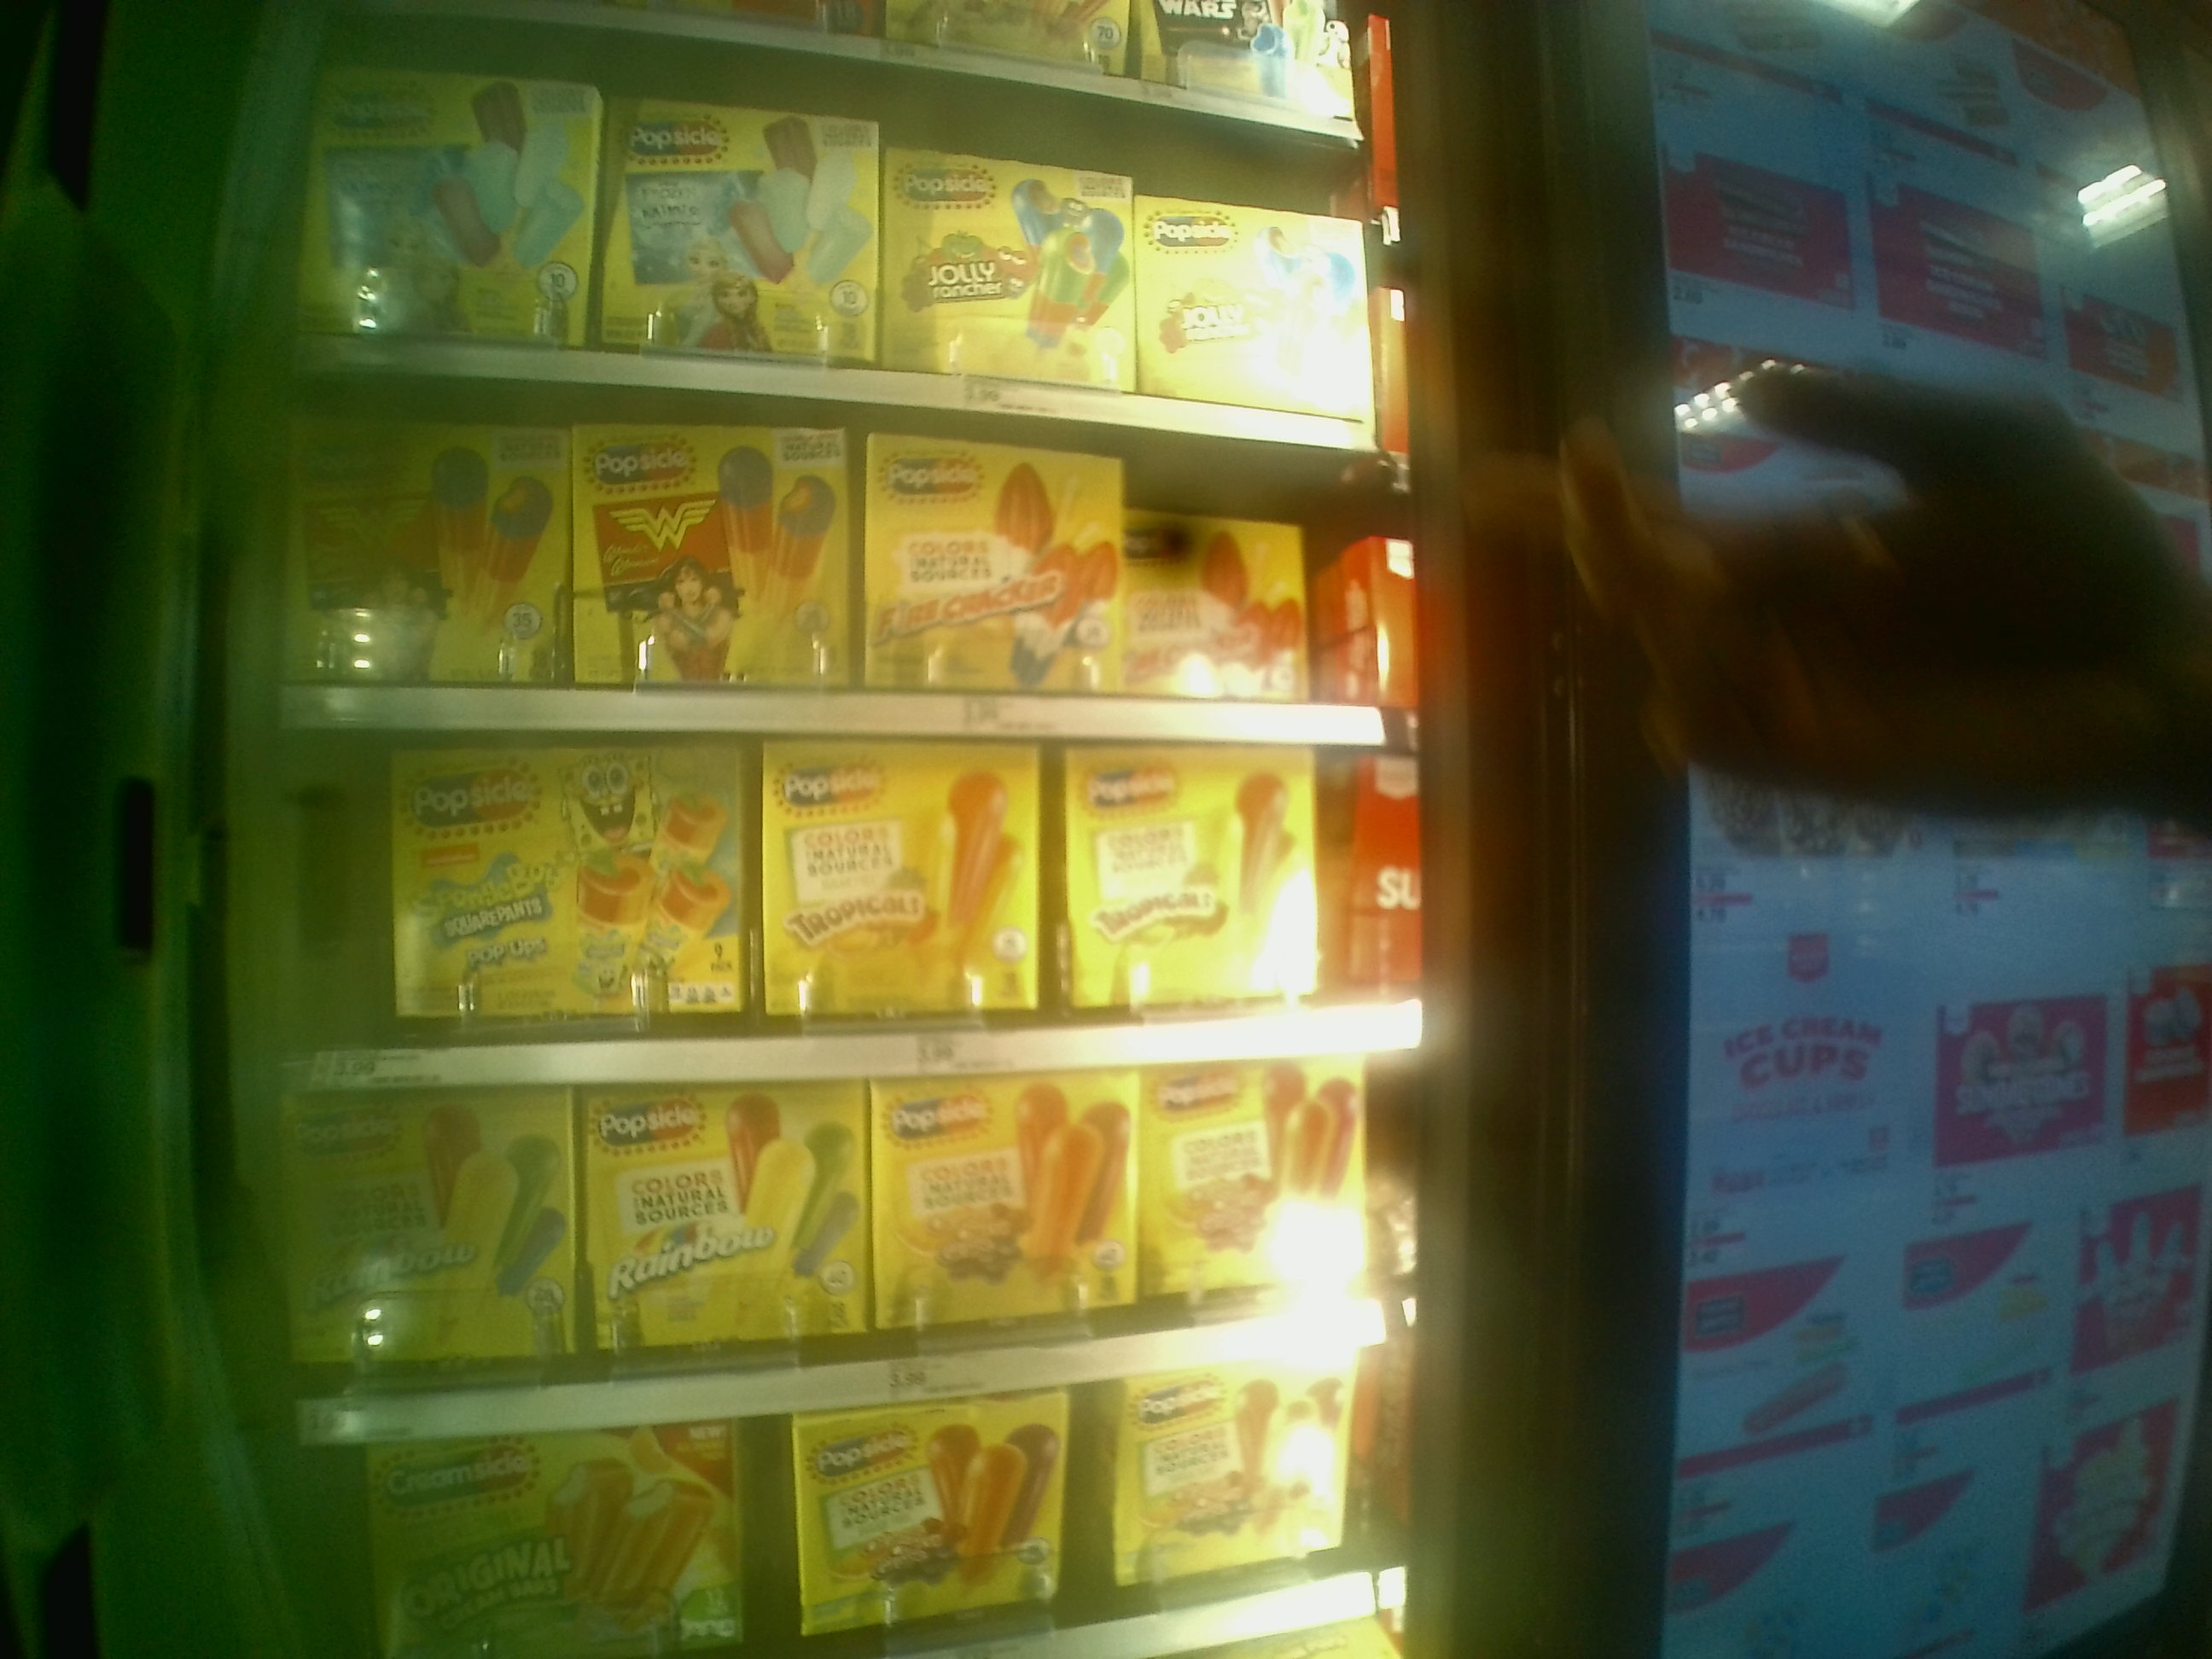frozen-food-shelf: (275, 385, 1409, 753), (293, 727, 1420, 1087)
